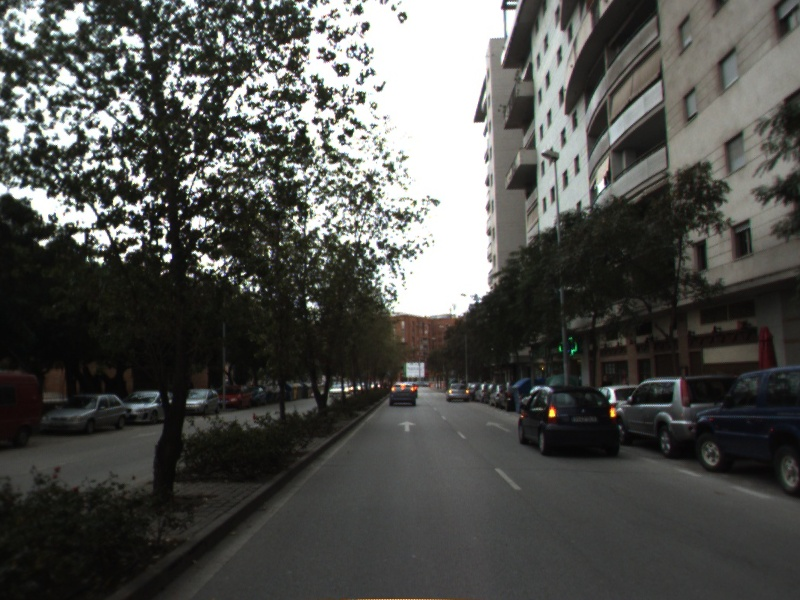STRAIGHT: (484, 419, 514, 434), (396, 419, 418, 434)
